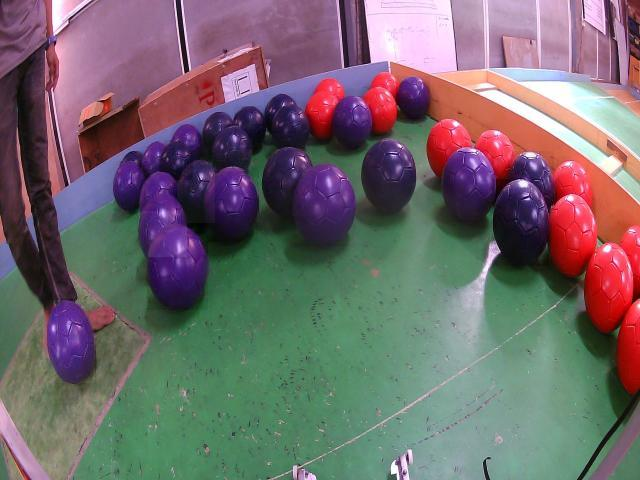jambhalya: (293, 163, 356, 247), (147, 224, 208, 310), (442, 147, 496, 223), (204, 168, 258, 242), (47, 300, 95, 383), (138, 193, 187, 257), (332, 97, 372, 149), (140, 171, 178, 211), (114, 161, 144, 211), (396, 77, 430, 119), (172, 123, 202, 160), (142, 142, 166, 179)
kaalyya: (493, 180, 549, 266), (362, 139, 416, 213), (262, 146, 312, 216), (509, 151, 554, 211), (177, 160, 215, 223), (213, 126, 252, 171), (271, 104, 310, 149), (234, 106, 266, 150), (160, 140, 193, 180), (264, 94, 296, 133), (203, 112, 232, 153), (123, 151, 142, 165)
